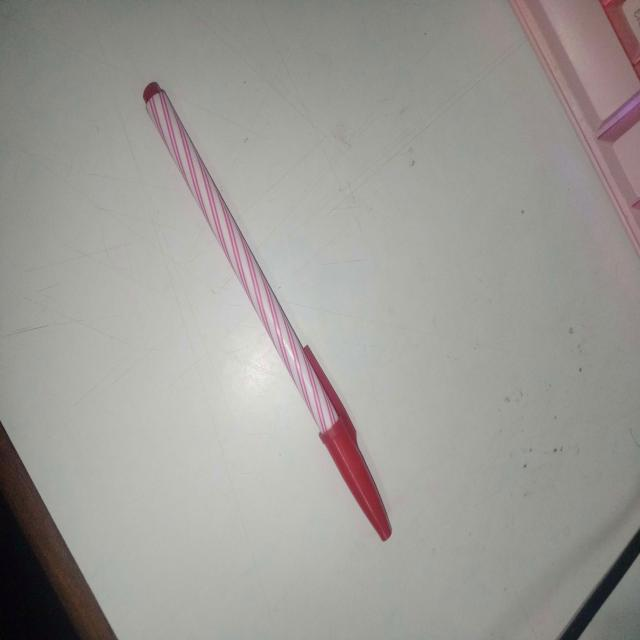pen_pencil: (130, 77, 414, 562)
